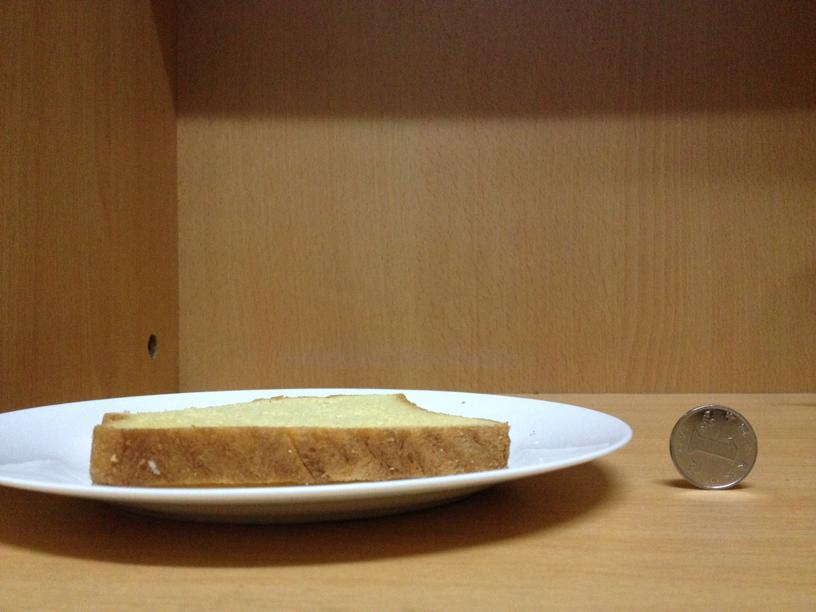bread: (90, 386, 511, 487)
coin: (668, 400, 757, 490)
